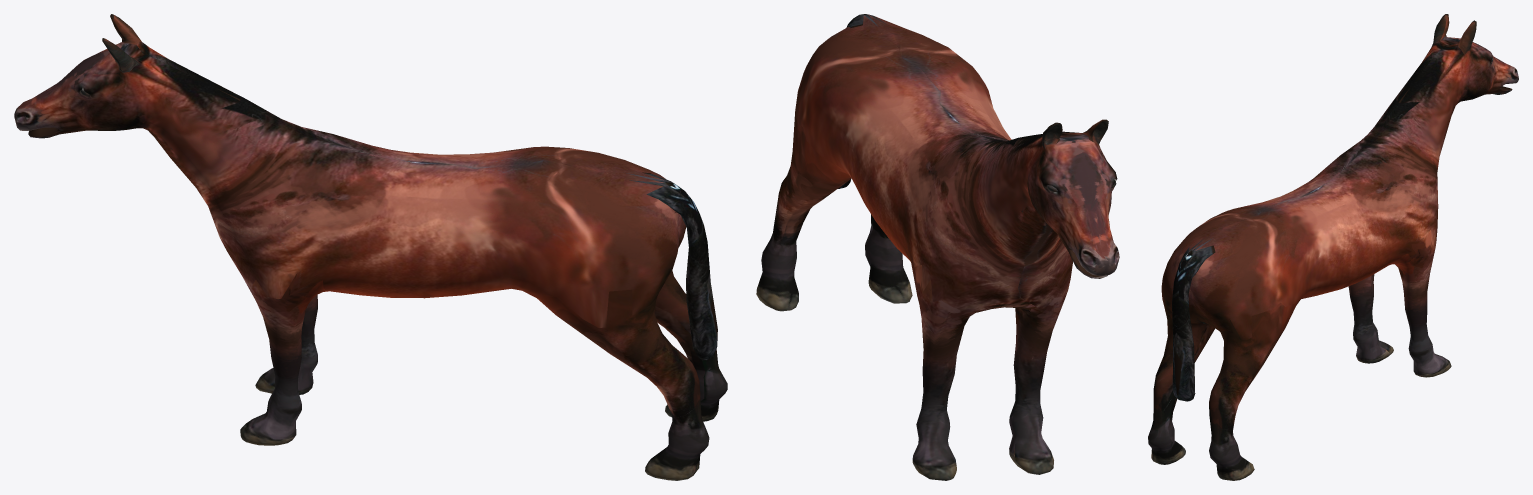
The model's file is horse.obj.
The picture shows the model from 3 angles, left to right: view 1: azimuth 30°, elevation 25°; view 2: azimuth 150°, elevation 25°; view 3: azimuth 270°, elevation 25°; orthographic projection. The views are drawn at different scales.
Visible parts, largest first — view 1: 10026_Horse_v01-it2.001; view 2: 10026_Horse_v01-it2.001; view 3: 10026_Horse_v01-it2.001.
Boxes of the visible parts, x1,y1,x2,y2 form: 10026_Horse_v01-it2.001: [14, 14, 727, 480]; 10026_Horse_v01-it2.001: [756, 14, 1119, 480]; 10026_Horse_v01-it2.001: [1148, 14, 1518, 480].
Bounding box in the file's own units: 0.7799 × 0.5709 × 0.6286.
Materials: 1 (1 with a texture image).
